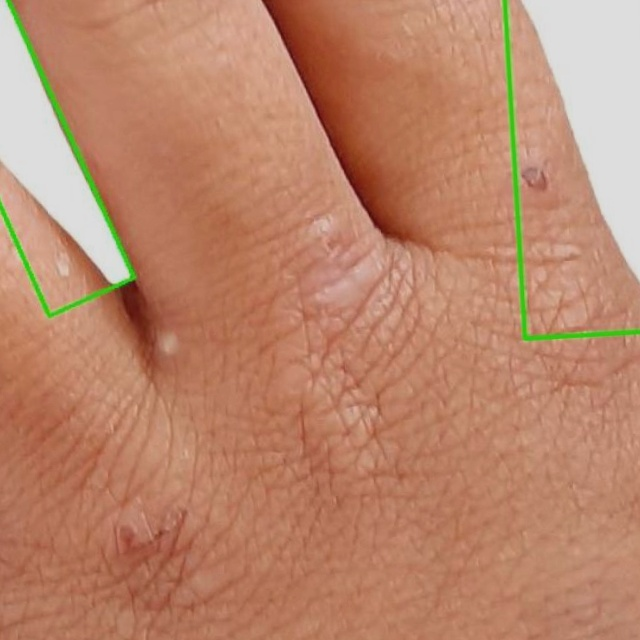Scabies: (504, 0, 639, 338), (0, 0, 137, 317)
